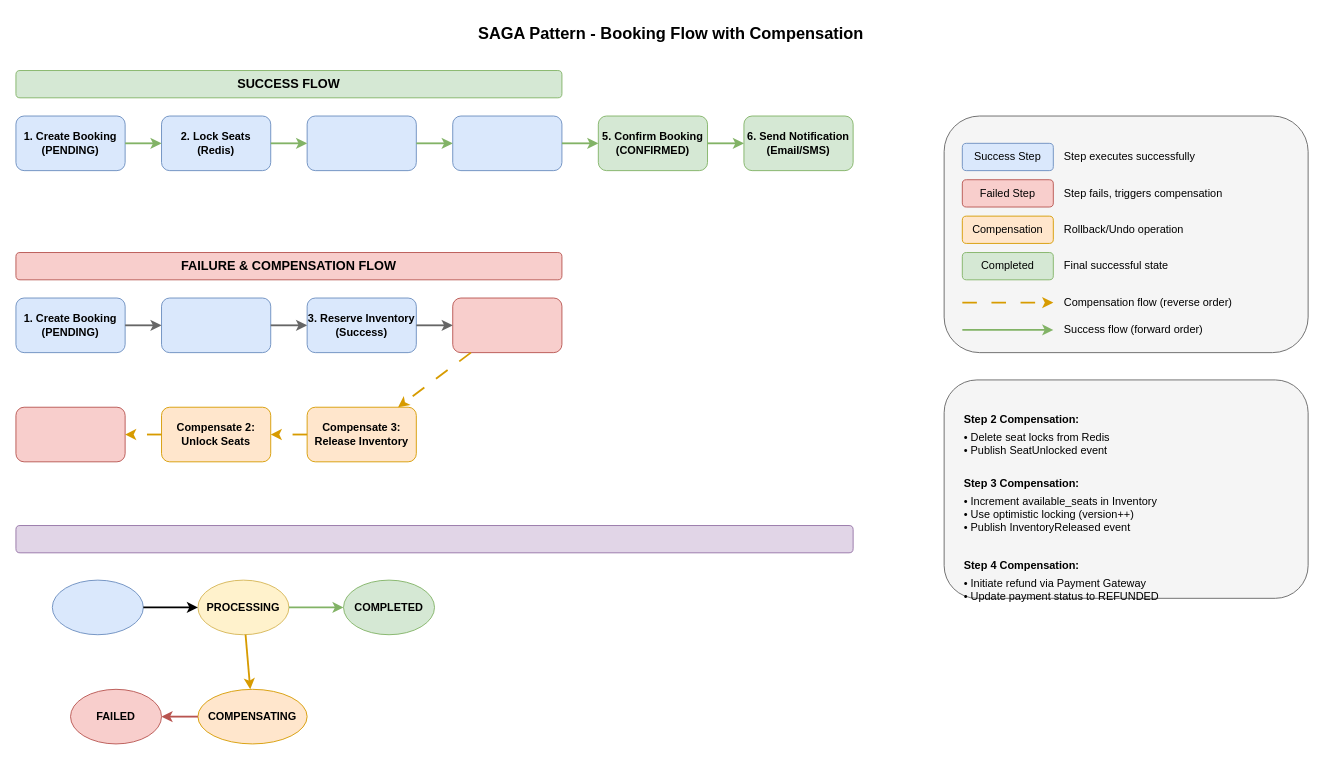
Some shapes in this 1324 by 760 pixel diagram are drawn without their labels. The box of each missing label's shape, as (x1, y1, x2, y2) in pixels:
2. Lock Seats (Success): (161, 297, 271, 353)
3. Reserve Inventory (Decrement): (306, 115, 416, 171)
4. Process Payment (Charge): (452, 115, 562, 171)
4. Process Payment (FAILED): (452, 297, 562, 353)
COMPENSATION ACTIONS: (943, 379, 1308, 598)
Final: Cancel Booking (CANCELLED): (15, 406, 125, 462)
LEGEND: (943, 115, 1308, 353)
SAGA STATE TRANSITIONS: (15, 525, 853, 553)
STARTED: (51, 579, 143, 635)
